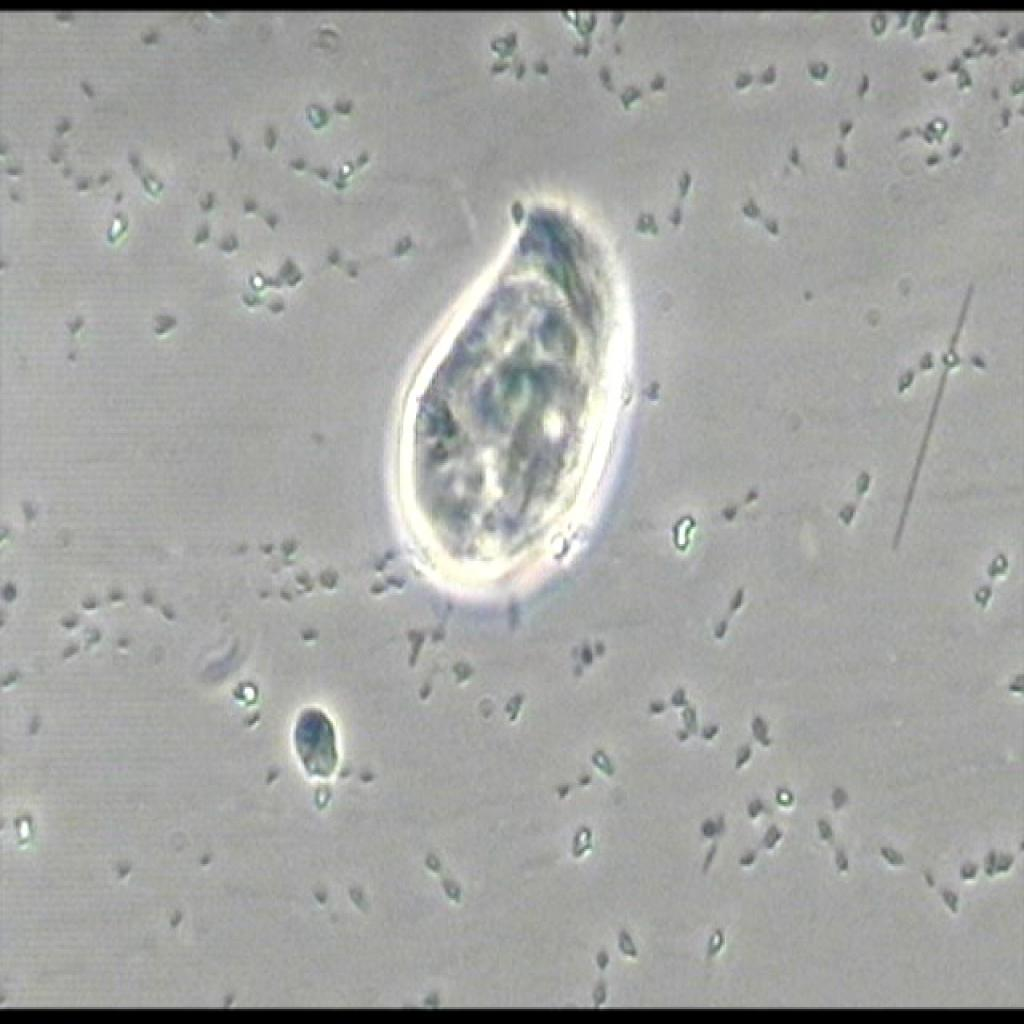Chilodonella: (362, 177, 644, 627)
